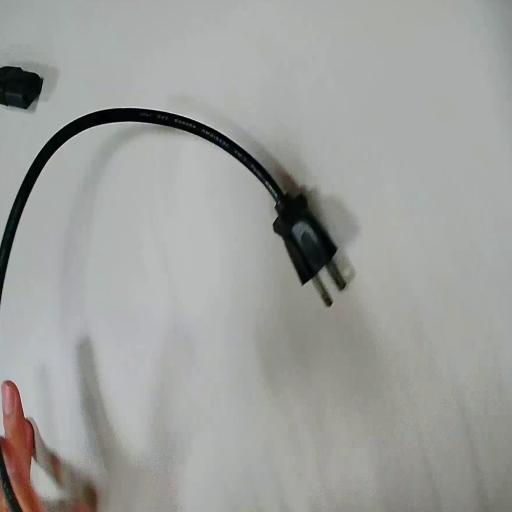wire: (0, 109, 344, 292)
